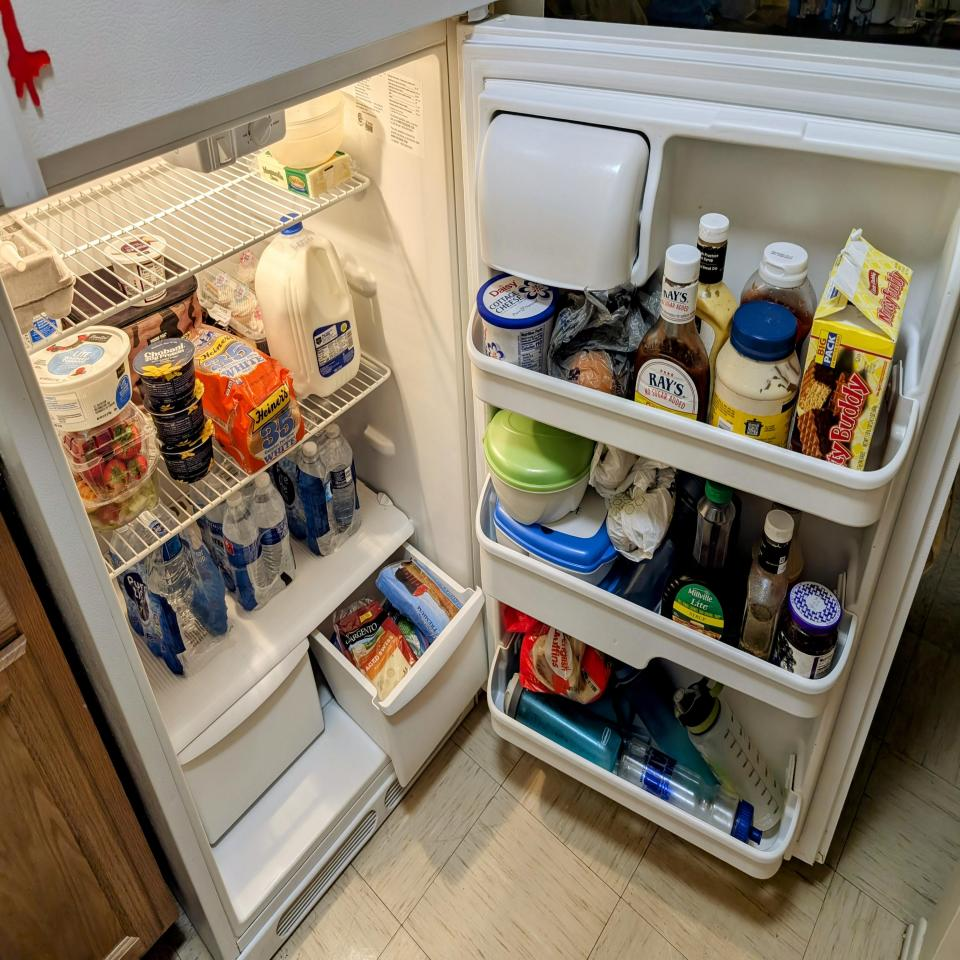Leche: (255, 213, 361, 400)
Queso: (334, 597, 420, 702), (256, 148, 354, 199)
ketchup: (740, 243, 818, 362)
mayonnaise: (709, 300, 802, 448)
mustard: (694, 212, 739, 425)
strawberries: (57, 402, 158, 502)
